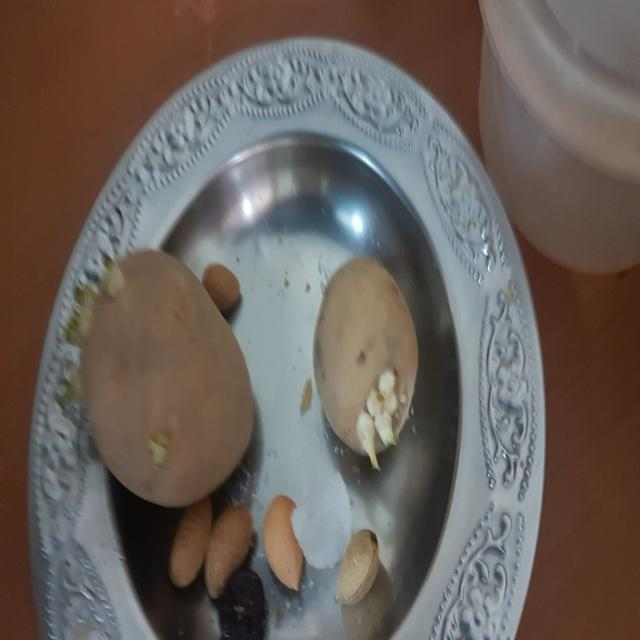potato: (53, 242, 264, 505), (300, 242, 424, 473)
